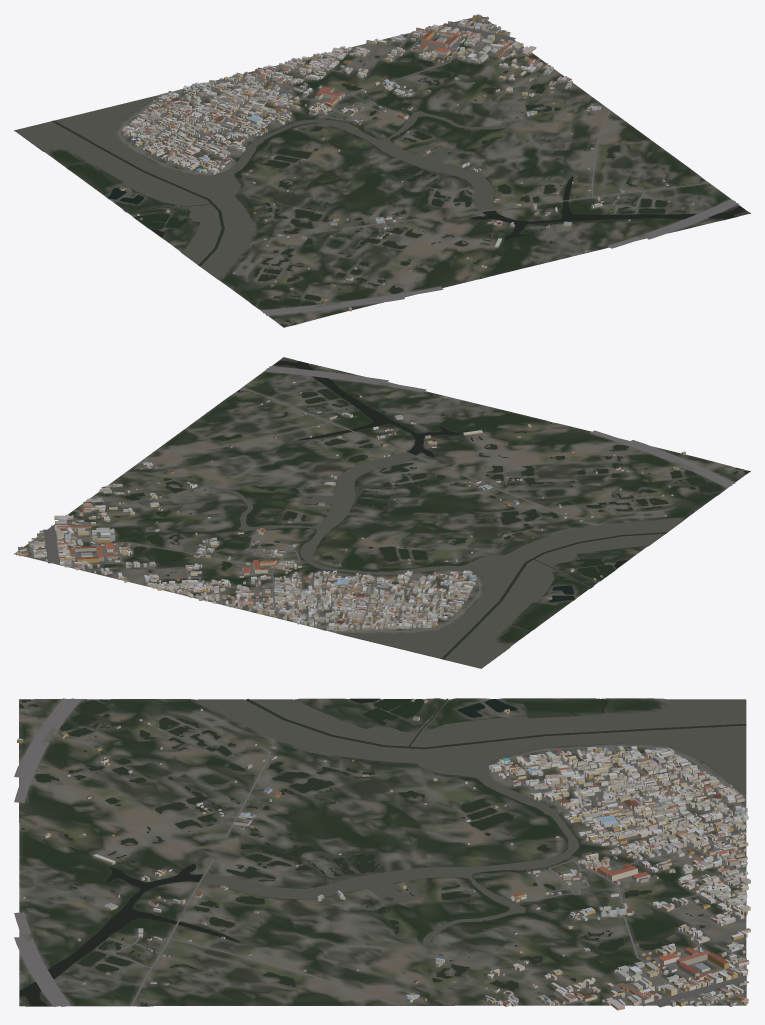
The picture shows the model from 3 angles, top to bottom: view 1: azimuth 30°, elevation 25°; view 2: azimuth 150°, elevation 25°; view 3: azimuth 270°, elevation 25°; orthographic projection. The views are drawn at different scales.
Visible parts, largest first — view 1: ground, water, buildings, roads; view 2: ground, water, buildings, roads; view 3: ground, water, buildings, roads.
Part boxes in pixels (x1,y1,x2,y2): ground: (14, 16, 750, 327); water: (15, 56, 745, 327); buildings: (119, 14, 694, 311); roads: (118, 15, 738, 315); ground: (14, 357, 750, 668); water: (114, 360, 749, 668); buildings: (16, 381, 685, 632); roads: (14, 366, 735, 631); ground: (19, 698, 746, 1006); water: (19, 698, 746, 1005); buildings: (17, 698, 750, 1010); roads: (14, 698, 749, 1007).
Size of the model in its own units: 1425 by 18.57 by 1419.
